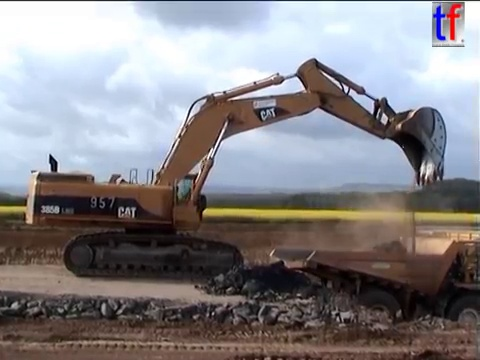excavator: (23, 55, 450, 282)
truck: (266, 226, 480, 347)
